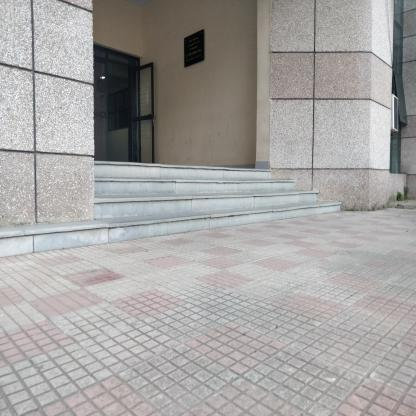stairs: (108, 171, 270, 231)
